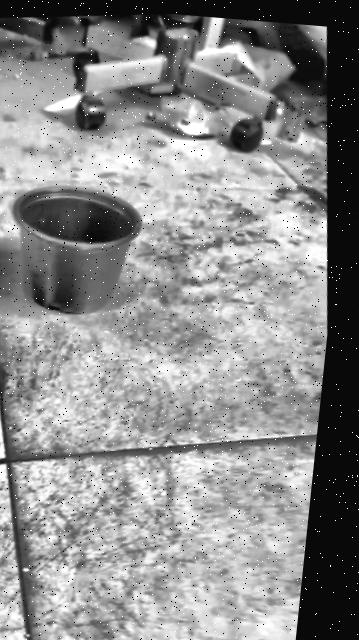pot: (0, 173, 153, 324)
